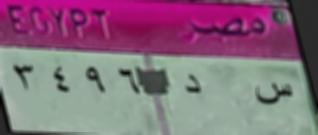3: (12, 58, 37, 95)
4: (46, 60, 71, 99)
6: (114, 66, 143, 98)
9: (82, 64, 107, 100)
daal: (179, 71, 205, 100)
seen: (252, 79, 297, 108)
